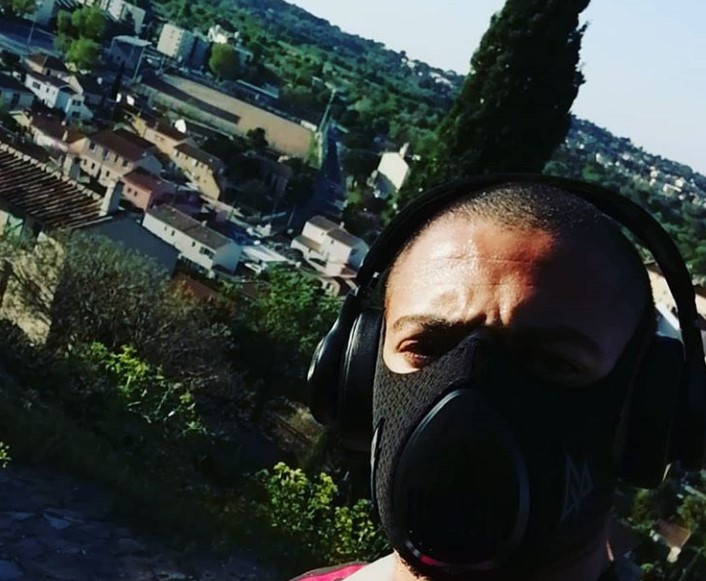face_with_mask: (360, 176, 658, 579)
